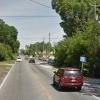Car: (47, 61, 89, 94)
